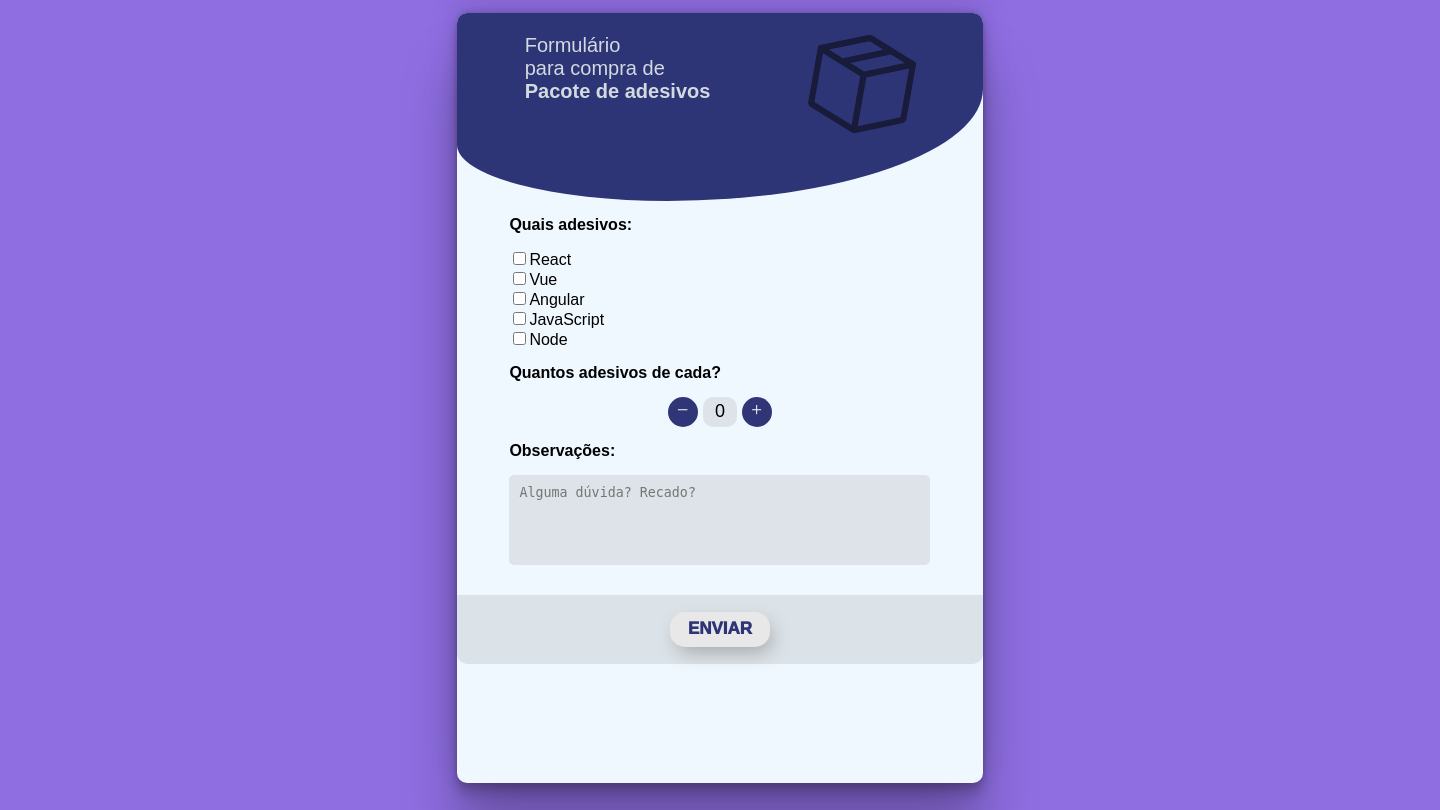
Test: Verifica menssagem de erro › Verifica se finaliza a compra sem informar o adesivo e a quantidade
What coordinates should you click on to do the following:
click the button "ENVIAR"
I would click on:
 (720, 629)
Its box is left=670, top=612, right=770, bottom=647.
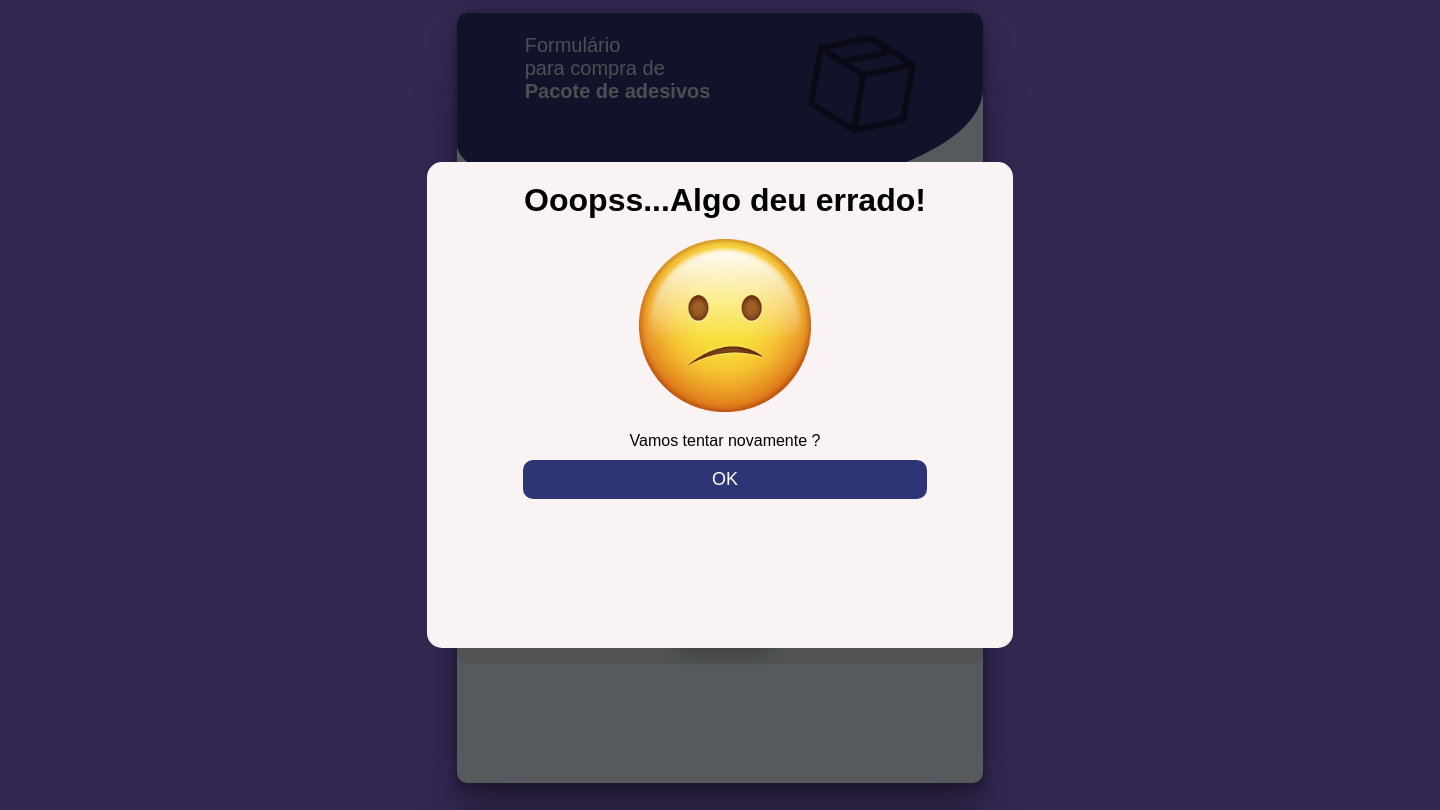
Expected: the heading "Ooopss...Algo deu errado!" is shown, left=524, top=182, right=926, bottom=219
